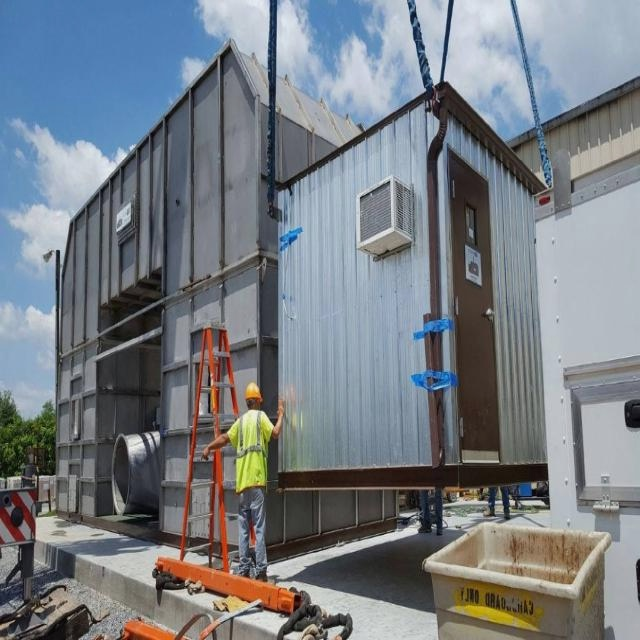Con_Casco: (245, 383, 263, 409)
Con_Chaleco: (236, 410, 266, 490)
